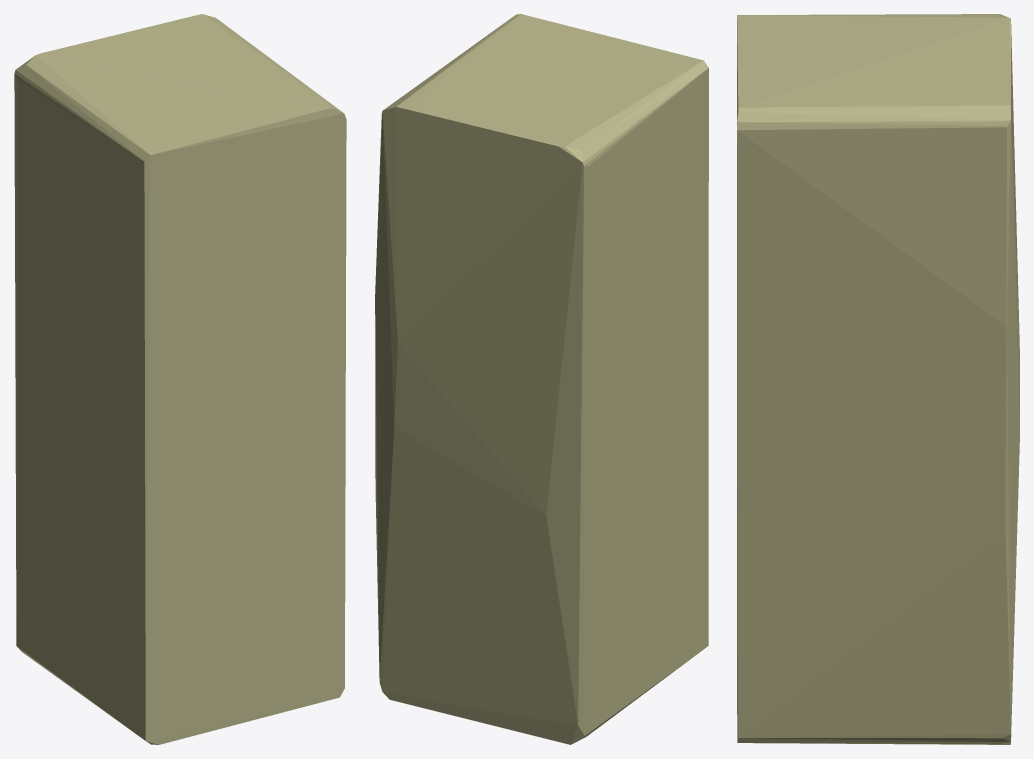
Rendered from Xray_machine_buckyTable_a01.glb.
3 views of the same model, side by side, from view 1: azimuth 30°, elevation 25°; view 2: azimuth 150°, elevation 25°; view 3: azimuth 270°, elevation 25° (orthographic). The views are drawn at different scales.
Parts seen in each view (by area): view 1: geometry_0; view 2: geometry_0; view 3: geometry_0.
Boxes of the visible parts, box(x1,y1,x2,y2) form: geometry_0: box(14, 14, 346, 744); geometry_0: box(375, 14, 708, 744); geometry_0: box(737, 14, 1019, 744).
Size of the model in its own units: 0.1781 by 0.48 by 0.1928.
